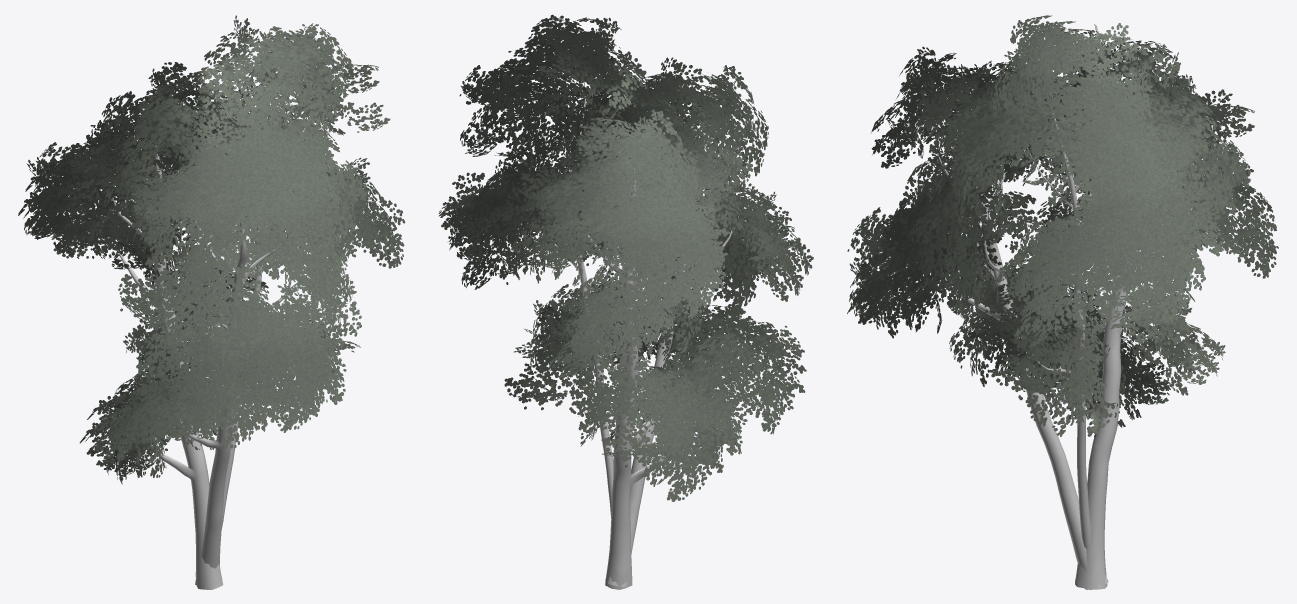
File: SM_Tree_F_02.fbx
The picture shows the model from 3 angles, left to right: view 1: azimuth 30°, elevation 25°; view 2: azimuth 150°, elevation 25°; view 3: azimuth 270°, elevation 25°; orthographic projection. The views are drawn at different scales.
Parts seen in each view (by area): view 1: SM_Tree_F_02_LOD0; view 2: SM_Tree_F_02_LOD0; view 3: SM_Tree_F_02_LOD0.
Part boxes in pixels (box(x1,y1,x2,y2)): SM_Tree_F_02_LOD0: box(18, 15, 405, 589); SM_Tree_F_02_LOD0: box(438, 14, 813, 589); SM_Tree_F_02_LOD0: box(847, 15, 1278, 589).
Size of what is drawn, in the model's own units: 11.12 by 17.76 by 11.89.
